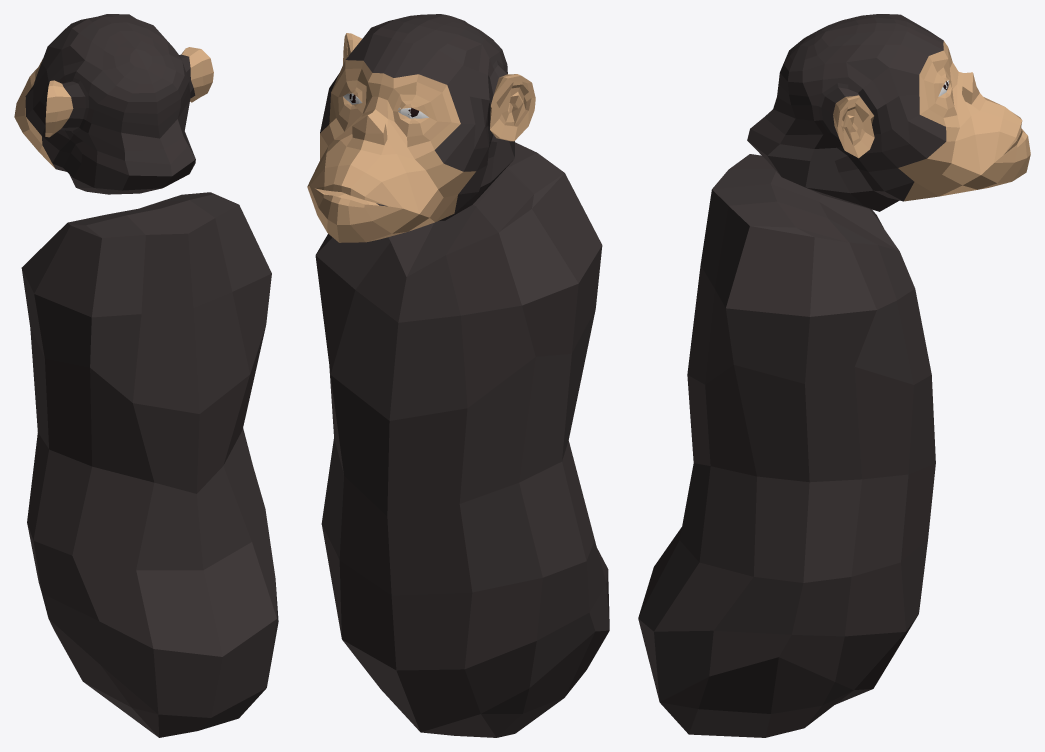
Rendered from avatarSinge.fbx.
3 views of the same model, side by side, from view 1: azimuth 30°, elevation 25°; view 2: azimuth 150°, elevation 25°; view 3: azimuth 270°, elevation 25° (orthographic). The views are drawn at different scales.
Visible parts, largest first — view 1: Corps, polySurface1; view 2: Corps, polySurface1; view 3: Corps, polySurface1.
Boxes of the visible parts, x1=… form: Corps: x1=21, y1=192, x2=278, y2=737; polySurface1: x1=14, y1=14, x2=213, y2=194; Corps: x1=315, y1=142, x2=609, y2=737; polySurface1: x1=307, y1=14, x2=535, y2=242; Corps: x1=638, y1=154, x2=935, y2=737; polySurface1: x1=747, y1=14, x2=1030, y2=211.
Size of the model in its own units: 1 by 2.78 by 1.41.
